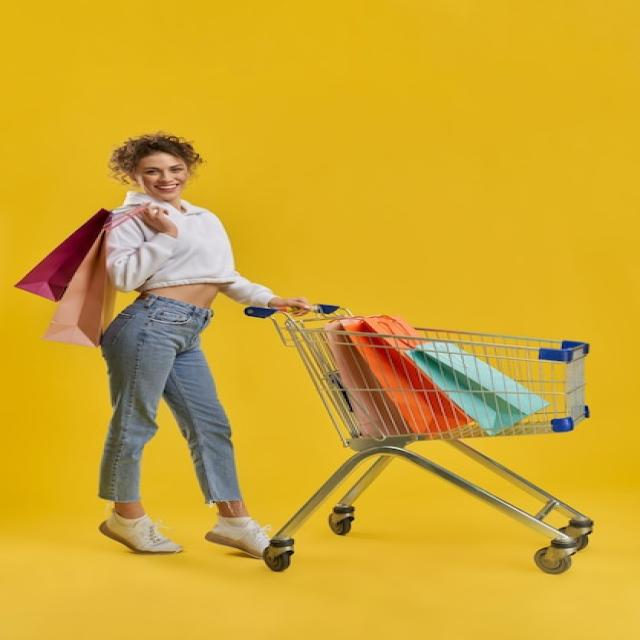Person: (97, 131, 313, 555)
